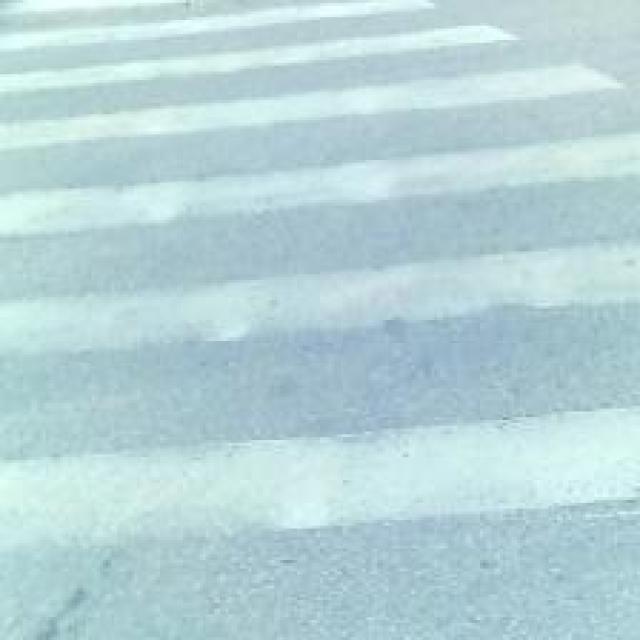walk-crossing: (0, 26, 609, 574)
